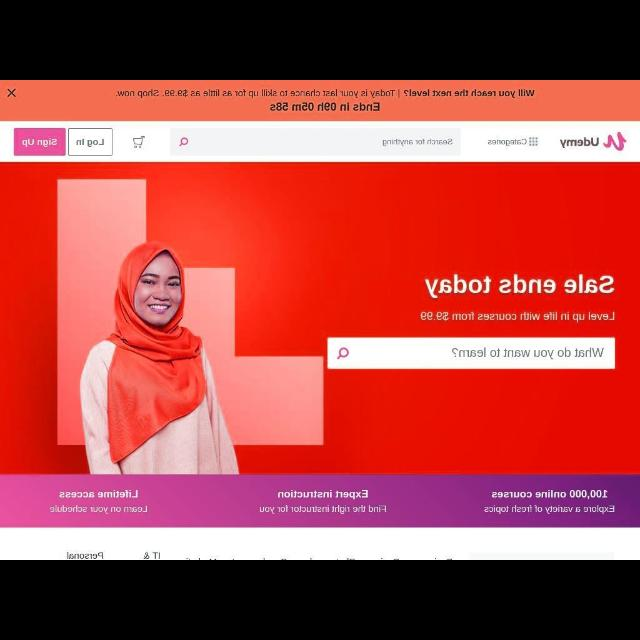backgroundimage: (1, 163, 639, 475)
icon: (132, 136, 146, 148), (336, 348, 348, 360), (528, 136, 538, 148), (6, 88, 16, 98), (178, 137, 188, 147)
iframe: (1, 80, 640, 121)
image: (560, 132, 628, 152)
input: (327, 337, 615, 369), (169, 130, 461, 156)
text: (424, 274, 614, 300), (116, 89, 534, 99), (483, 489, 615, 515), (258, 490, 386, 514), (420, 310, 616, 324), (49, 490, 147, 514), (452, 348, 604, 360), (270, 102, 380, 112), (382, 138, 453, 148), (487, 138, 527, 148), (22, 138, 56, 148), (68, 551, 104, 559), (76, 138, 104, 148), (143, 551, 161, 559)
textbutton: (13, 128, 65, 156), (67, 128, 113, 156)
toolbar: (1, 122, 640, 162)
